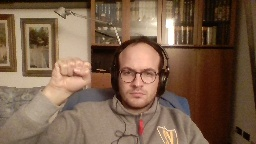Pugno: (50, 56, 92, 92)
